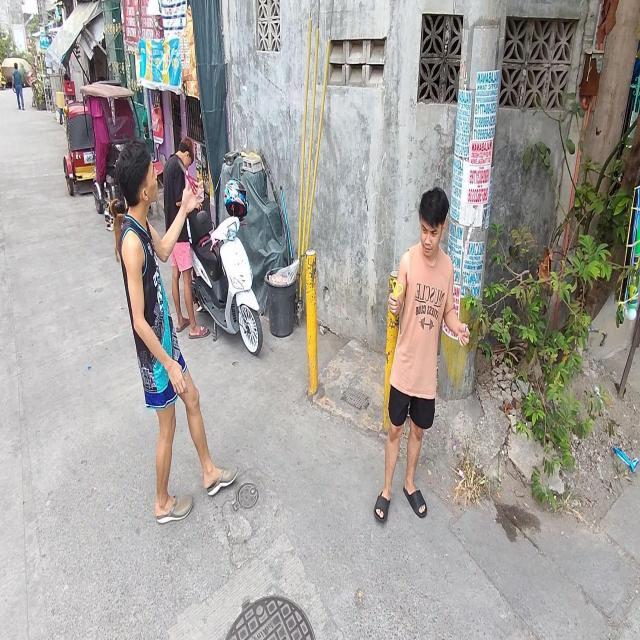scissor: (178, 160, 199, 194), (393, 281, 402, 299)
